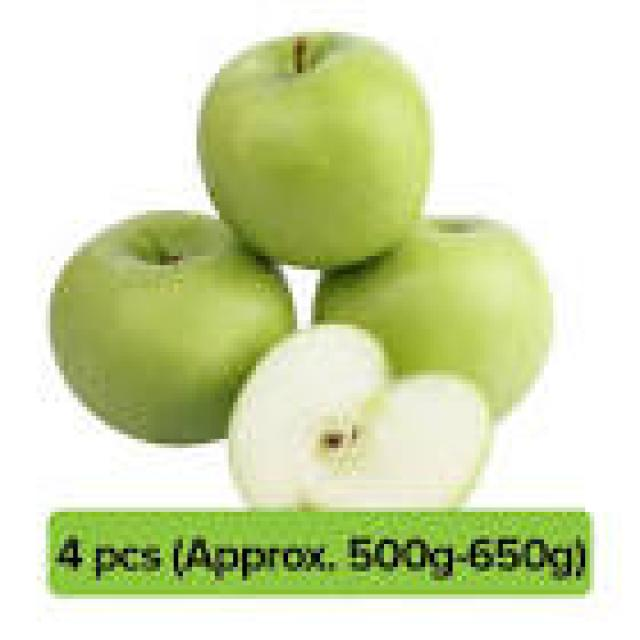apple: (51, 211, 292, 443), (197, 32, 429, 269), (229, 325, 493, 507), (316, 220, 553, 415)
